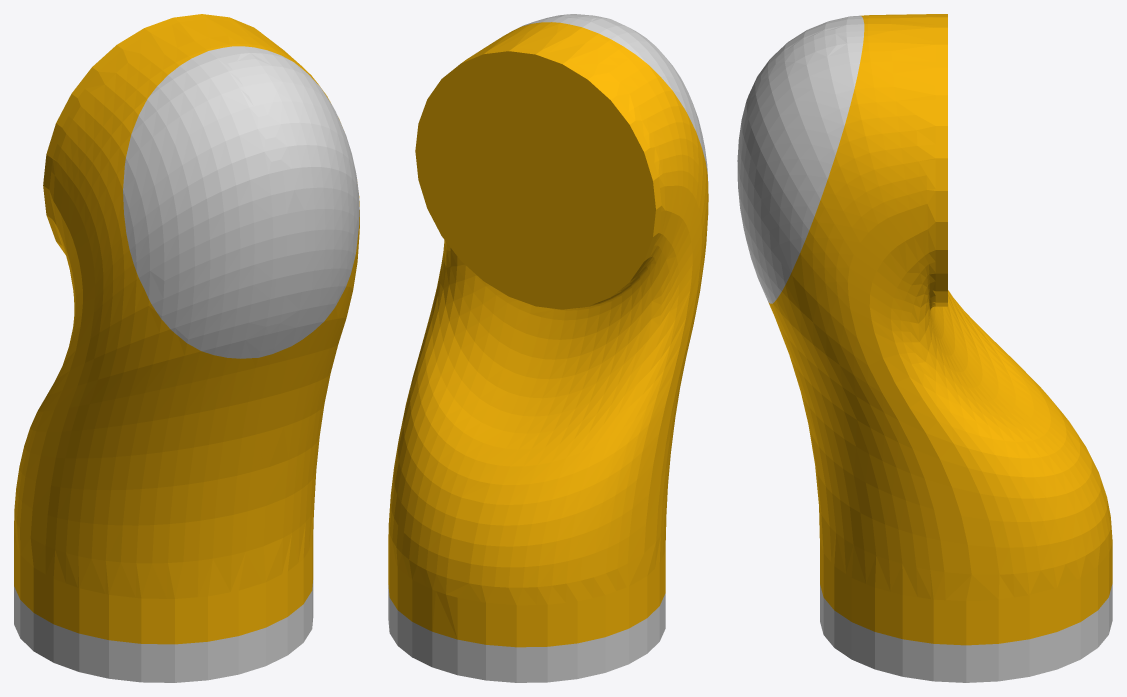
3 views of the same model, side by side, from view 1: azimuth 30°, elevation 25°; view 2: azimuth 150°, elevation 25°; view 3: azimuth 270°, elevation 25° (orthographic). The views are drawn at different scales.
Parts seen in each view (by area): view 1: link_1; view 2: link_1; view 3: link_1.
Boxes of the visible parts, x1,y1,x2,y2 form: link_1: (14, 14, 359, 682); link_1: (388, 14, 708, 682); link_1: (737, 14, 1112, 682).
Bounding box in the file's own units: 0.12 × 0.1538 × 0.2685.
